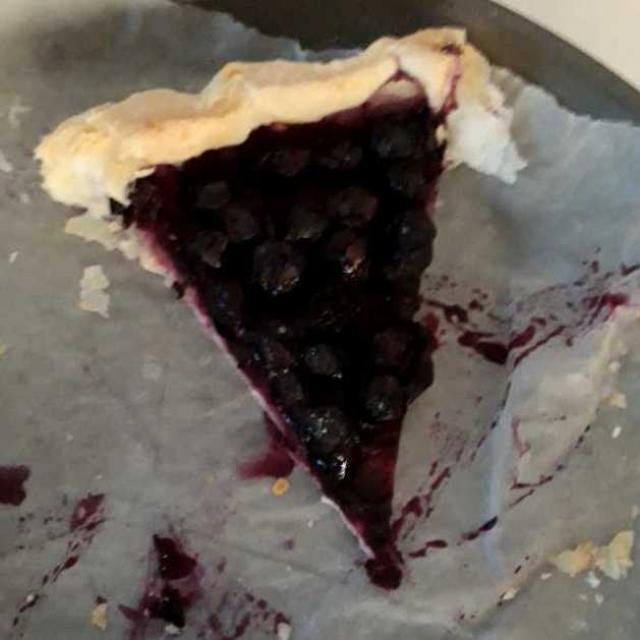fruit-tart: (47, 36, 517, 560)
